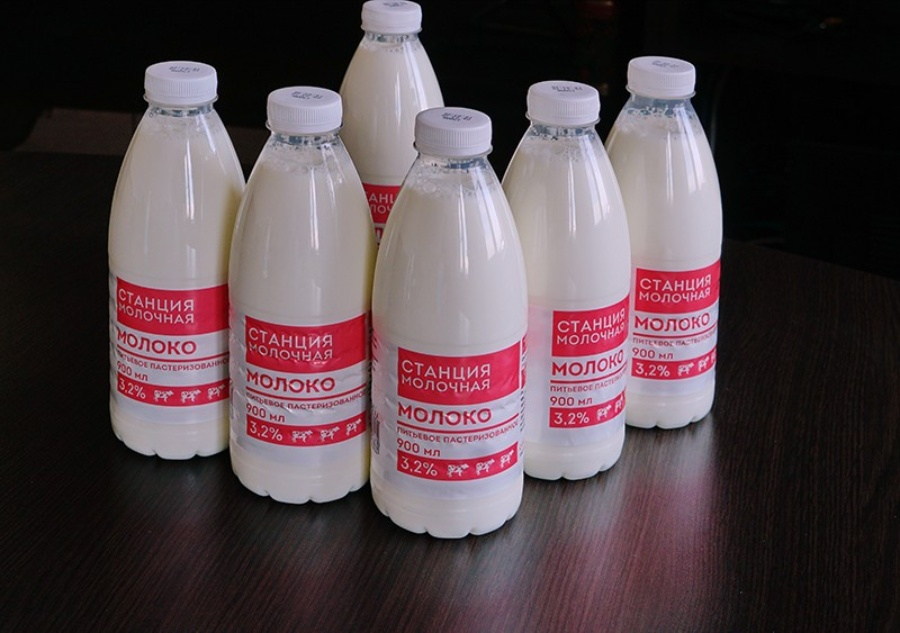milk: (359, 106, 539, 554), (217, 84, 379, 523), (99, 59, 249, 474), (506, 83, 645, 508), (619, 54, 733, 449)
